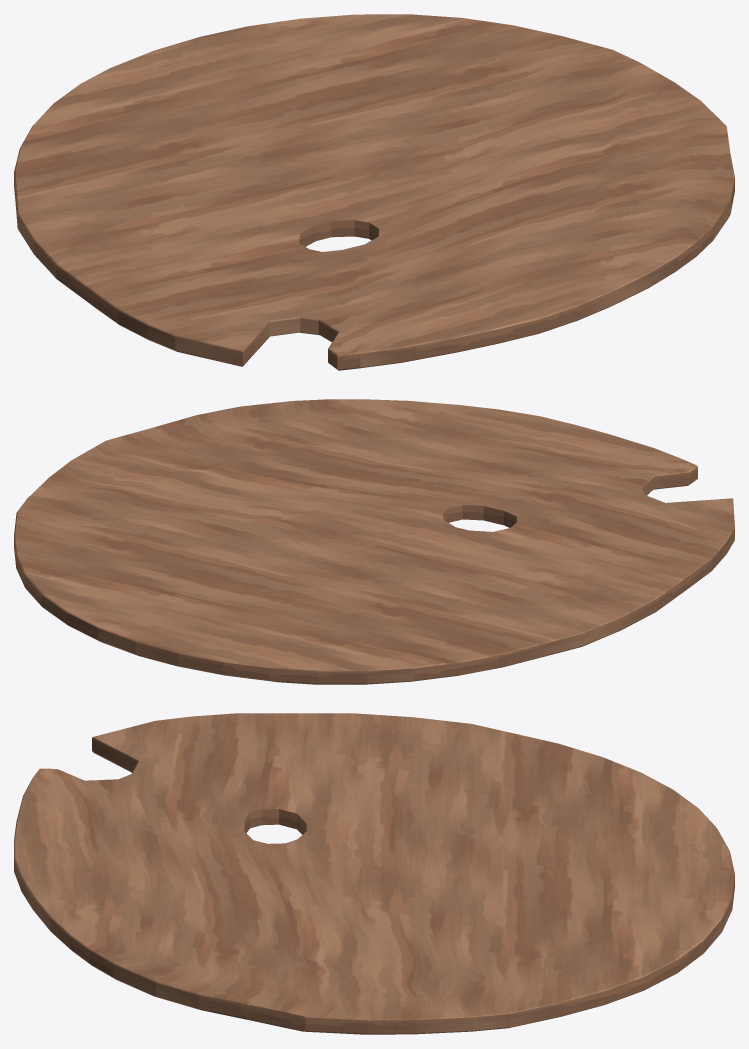
The model's file is paintingColorBoard.glb.
3 renders of one model, top to bottom at view 1: azimuth 30°, elevation 25°; view 2: azimuth 150°, elevation 25°; view 3: azimuth 270°, elevation 25°, orthographic. The views are drawn at different scales.
Parts seen in each view (by area): view 1: Cylinder; view 2: Cylinder; view 3: Cylinder.
Part boxes in pixels (x1,y1,x2,y2): Cylinder: [14, 14, 734, 370]; Cylinder: [14, 399, 734, 684]; Cylinder: [14, 713, 734, 1034].
Bounding box in the file's own units: 2.09 × 0.05 × 2.07.
1 material, 1 textured.
